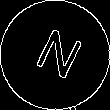N_SW: (26, 24, 84, 86)
